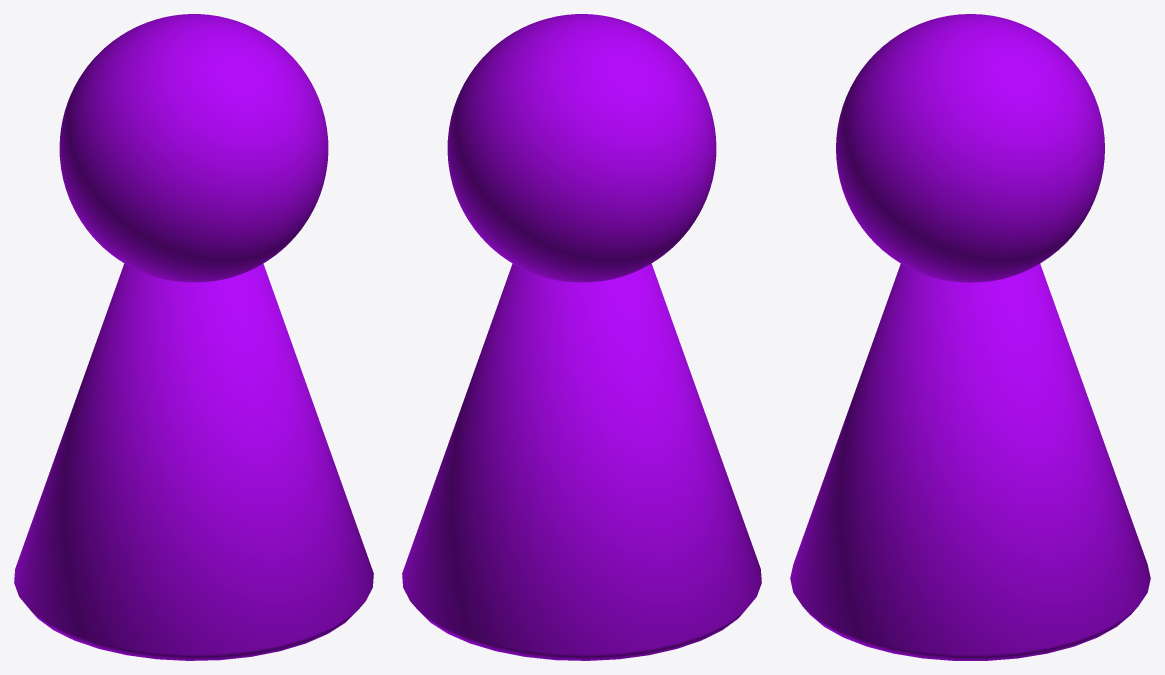
Rendered from Purple_shape.gltf.
3 views of the same model, side by side, from view 1: azimuth 30°, elevation 25°; view 2: azimuth 150°, elevation 25°; view 3: azimuth 270°, elevation 25° (orthographic).
Visible parts, largest first — view 1: Фиолетовая_фигурка; view 2: Фиолетовая_фигурка; view 3: Фиолетовая_фигурка.
Boxes of the visible parts, x1,y1,x2,y2 form: Фиолетовая_фигурка: [14, 14, 373, 660]; Фиолетовая_фигурка: [402, 14, 761, 660]; Фиолетовая_фигурка: [790, 14, 1150, 660].
Size of the model in its own units: 2.46 by 4.3 by 2.47.
